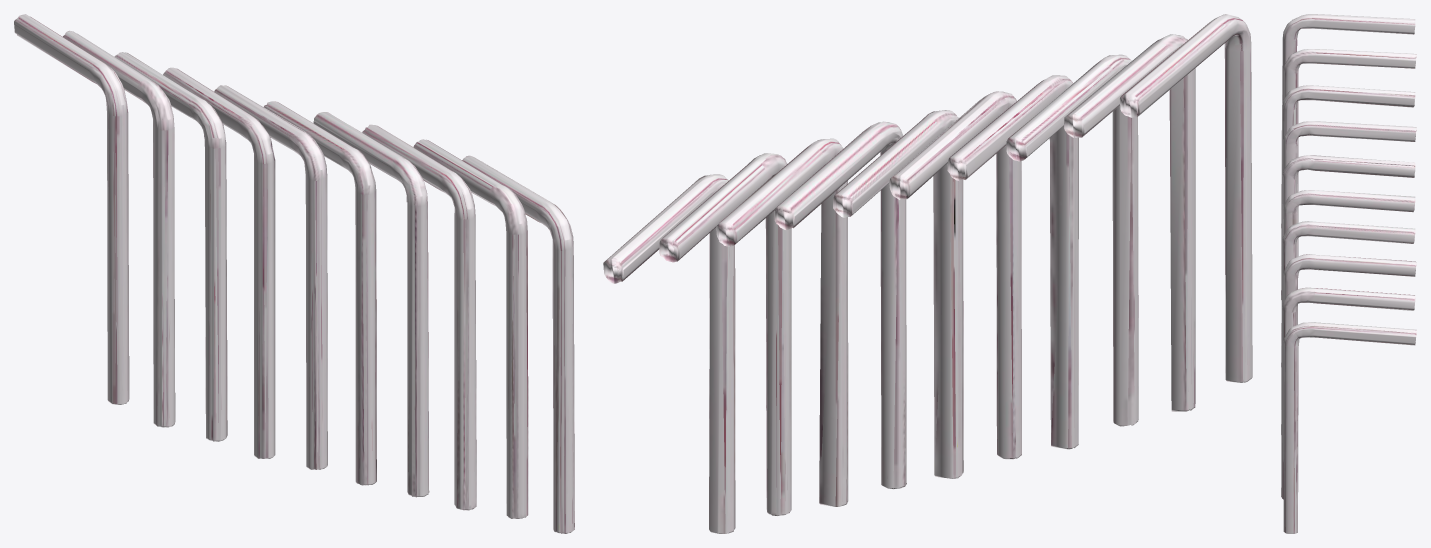
The model's file is l-shaped_glass_tubing_1778778815.glb.
3 renders of one model, left to right at view 1: azimuth 30°, elevation 25°; view 2: azimuth 150°, elevation 25°; view 3: azimuth 270°, elevation 25°, orthographic. The views are drawn at different scales.
Visible parts, largest first — view 1: tripo_node_0948adcd-a2ac-4b8b-9aec-33bbf0652d39; view 2: tripo_node_0948adcd-a2ac-4b8b-9aec-33bbf0652d39; view 3: tripo_node_0948adcd-a2ac-4b8b-9aec-33bbf0652d39.
Boxes of the visible parts, bbox=[...] form: tripo_node_0948adcd-a2ac-4b8b-9aec-33bbf0652d39: bbox=[14, 14, 574, 533]; tripo_node_0948adcd-a2ac-4b8b-9aec-33bbf0652d39: bbox=[603, 14, 1252, 533]; tripo_node_0948adcd-a2ac-4b8b-9aec-33bbf0652d39: bbox=[1281, 14, 1416, 533].
Bounding box in the file's own units: 0.8652 × 0.998 × 0.3301.
1 material, 1 textured.
